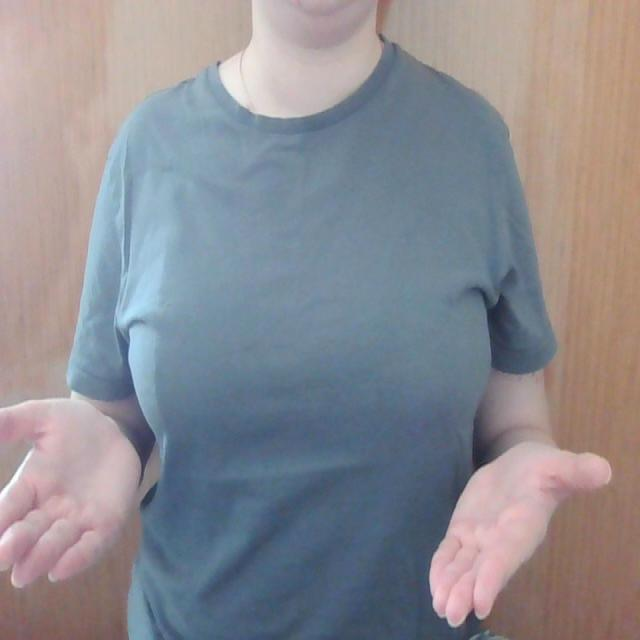Evet: (0, 390, 612, 632)
